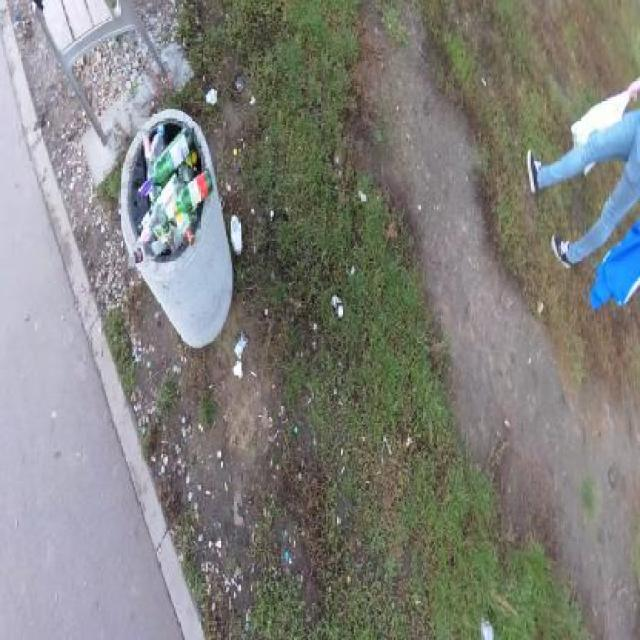Garbage: (140, 126, 192, 197), (135, 171, 181, 245), (164, 169, 212, 221), (128, 229, 169, 268), (141, 124, 165, 178), (231, 215, 243, 257), (234, 328, 248, 358), (481, 615, 496, 636), (331, 296, 344, 316)
